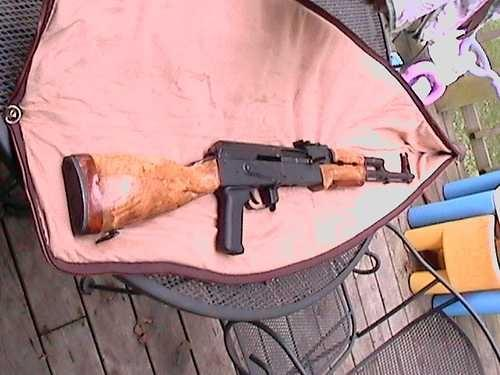heavyweapon: (45, 127, 443, 263)
